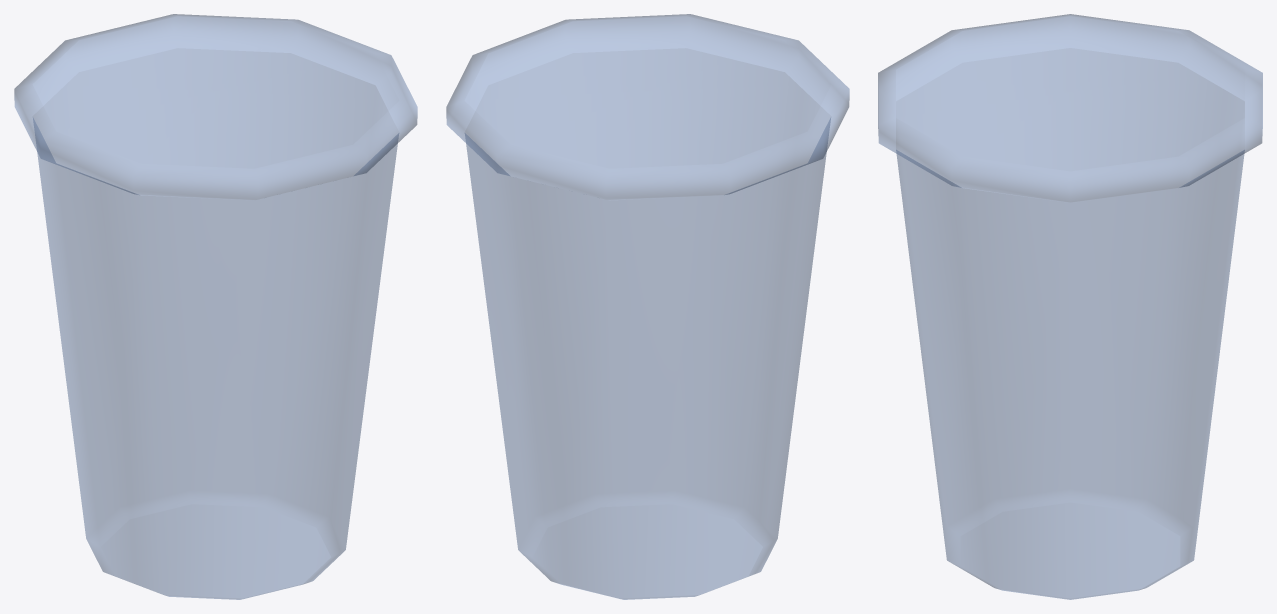
The model's file is Iced_Coffee_02_Plastic.fbx.
3 views of the same model, side by side, from view 1: azimuth 30°, elevation 25°; view 2: azimuth 150°, elevation 25°; view 3: azimuth 270°, elevation 25° (orthographic).
Visible parts, largest first — view 1: Iced_Coffee_02_Plastic; view 2: Iced_Coffee_02_Plastic; view 3: Iced_Coffee_02_Plastic.
Part boxes in pixels (box(x1,y1,x2,y2)): Iced_Coffee_02_Plastic: box(14, 14, 417, 599); Iced_Coffee_02_Plastic: box(446, 14, 849, 599); Iced_Coffee_02_Plastic: box(878, 14, 1262, 599).
Bounding box in the file's own units: 38.61 × 48.47 × 36.84.
